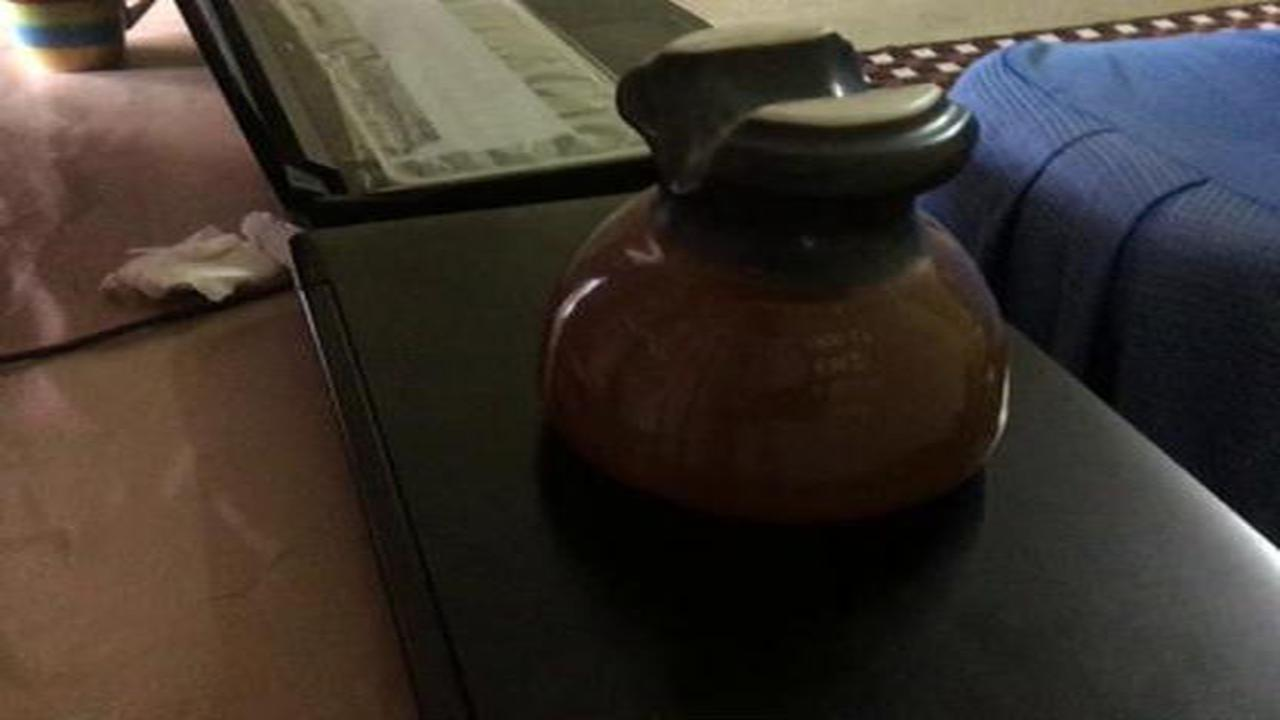insulator_pin: (517, 14, 1022, 561)
